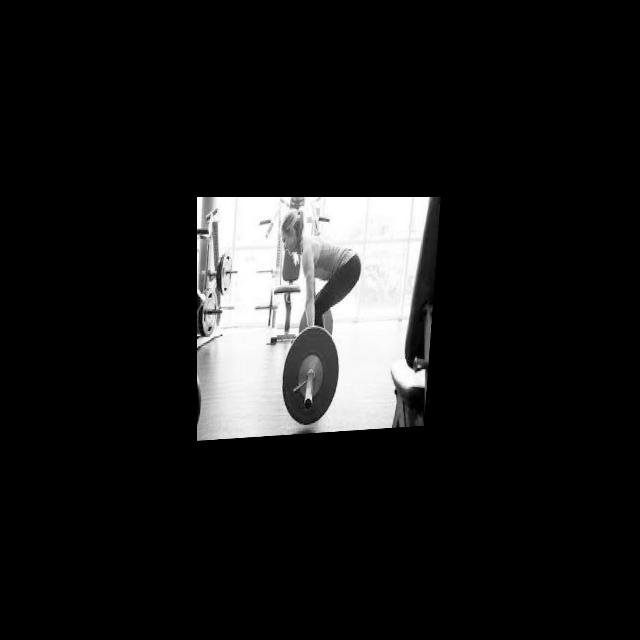barbell: (280, 324, 346, 431)
